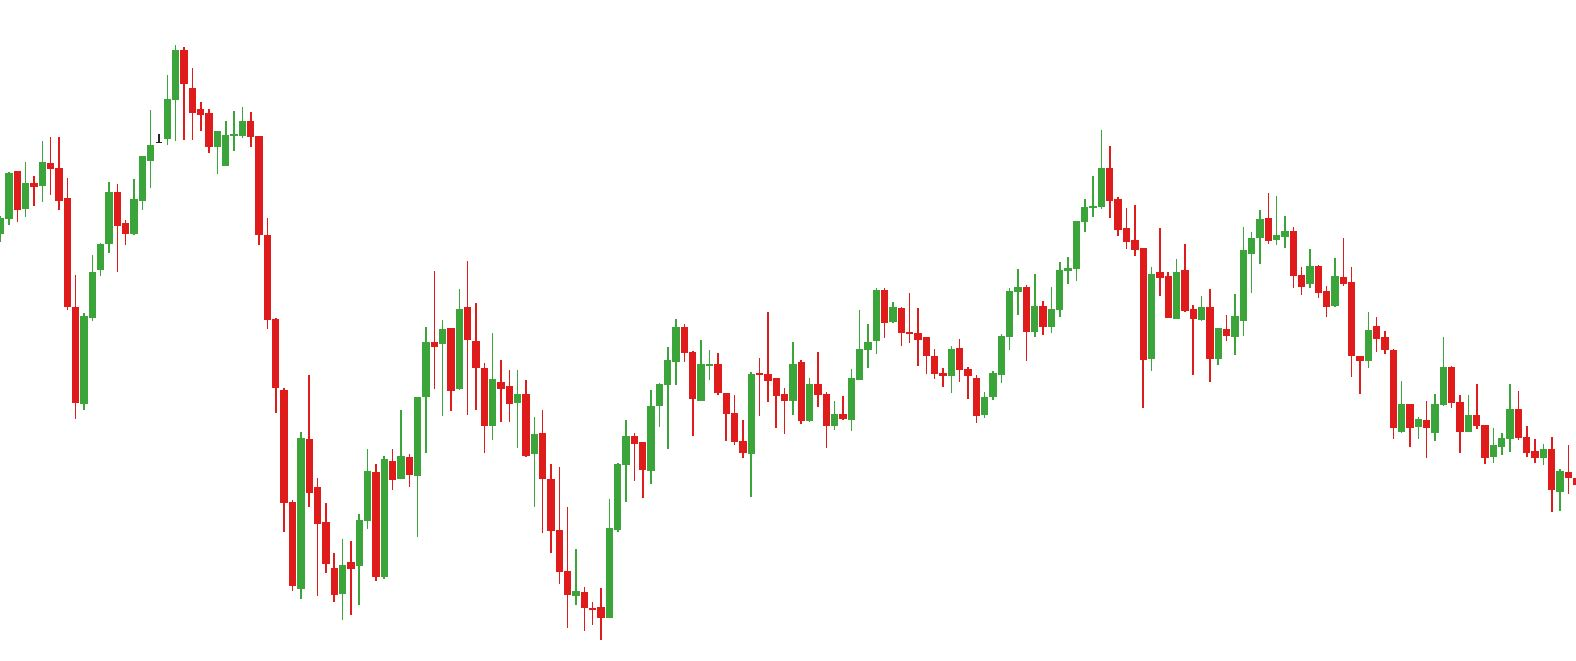buy: (337, 438, 617, 645), (1022, 250, 1158, 418), (688, 352, 757, 504)
sell: (429, 245, 472, 364)
